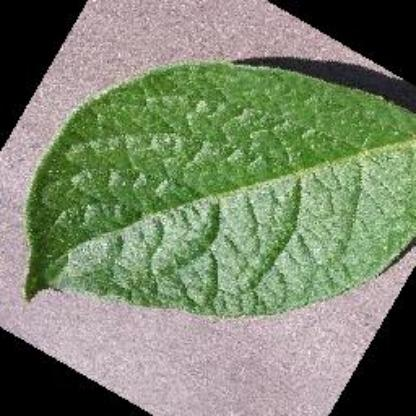Healthy-plant: (21, 45, 415, 327)
